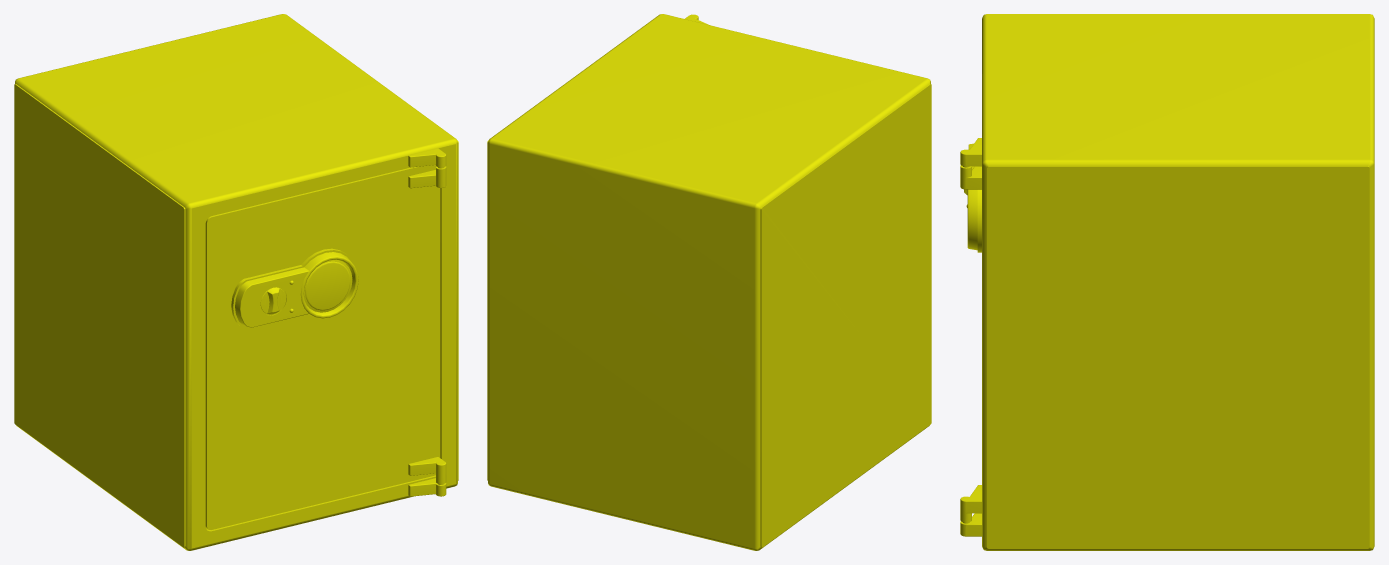
The model's file is safe.fbx.
3 views of the same model, side by side, from view 1: azimuth 30°, elevation 25°; view 2: azimuth 150°, elevation 25°; view 3: azimuth 270°, elevation 25° (orthographic). The views are drawn at different scales.
Visible parts, largest first — view 1: safeBase, safeDoor, safeButton; view 2: safeBase; view 3: safeBase, safeDoor.
Part boxes in pixels (box(x1,y1,x2,y2)): safeBase: box(14, 14, 458, 550); safeDoor: box(205, 165, 446, 529); safeButton: box(260, 286, 286, 315); safeBase: box(487, 14, 931, 550); safeBase: box(960, 14, 1374, 550); safeDoor: box(960, 143, 981, 523).
Size of the model in its own units: 45.4 by 55 by 52.75.
